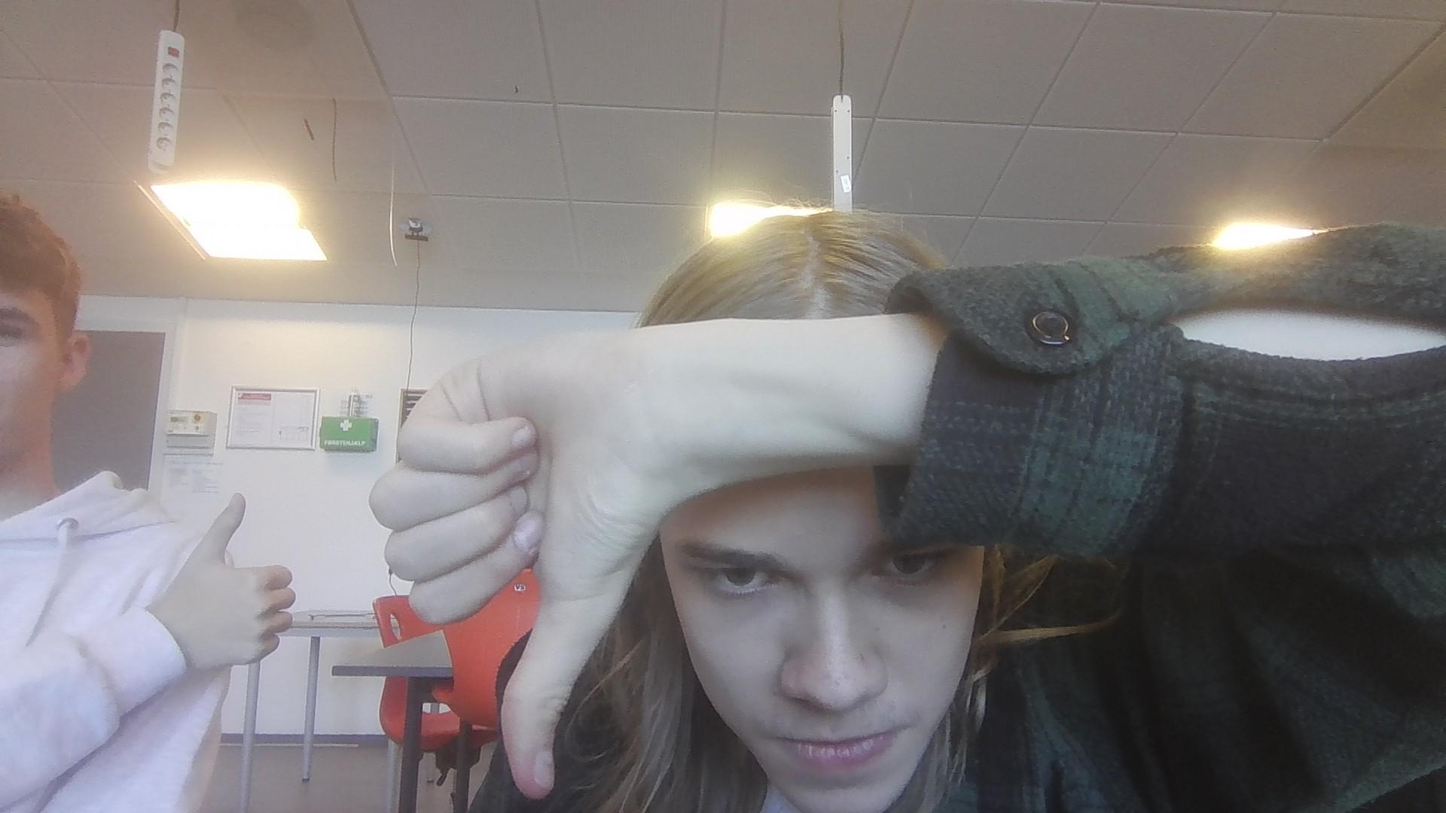thumbs down: (371, 327, 675, 803)
thumbs up: (181, 491, 297, 677)
